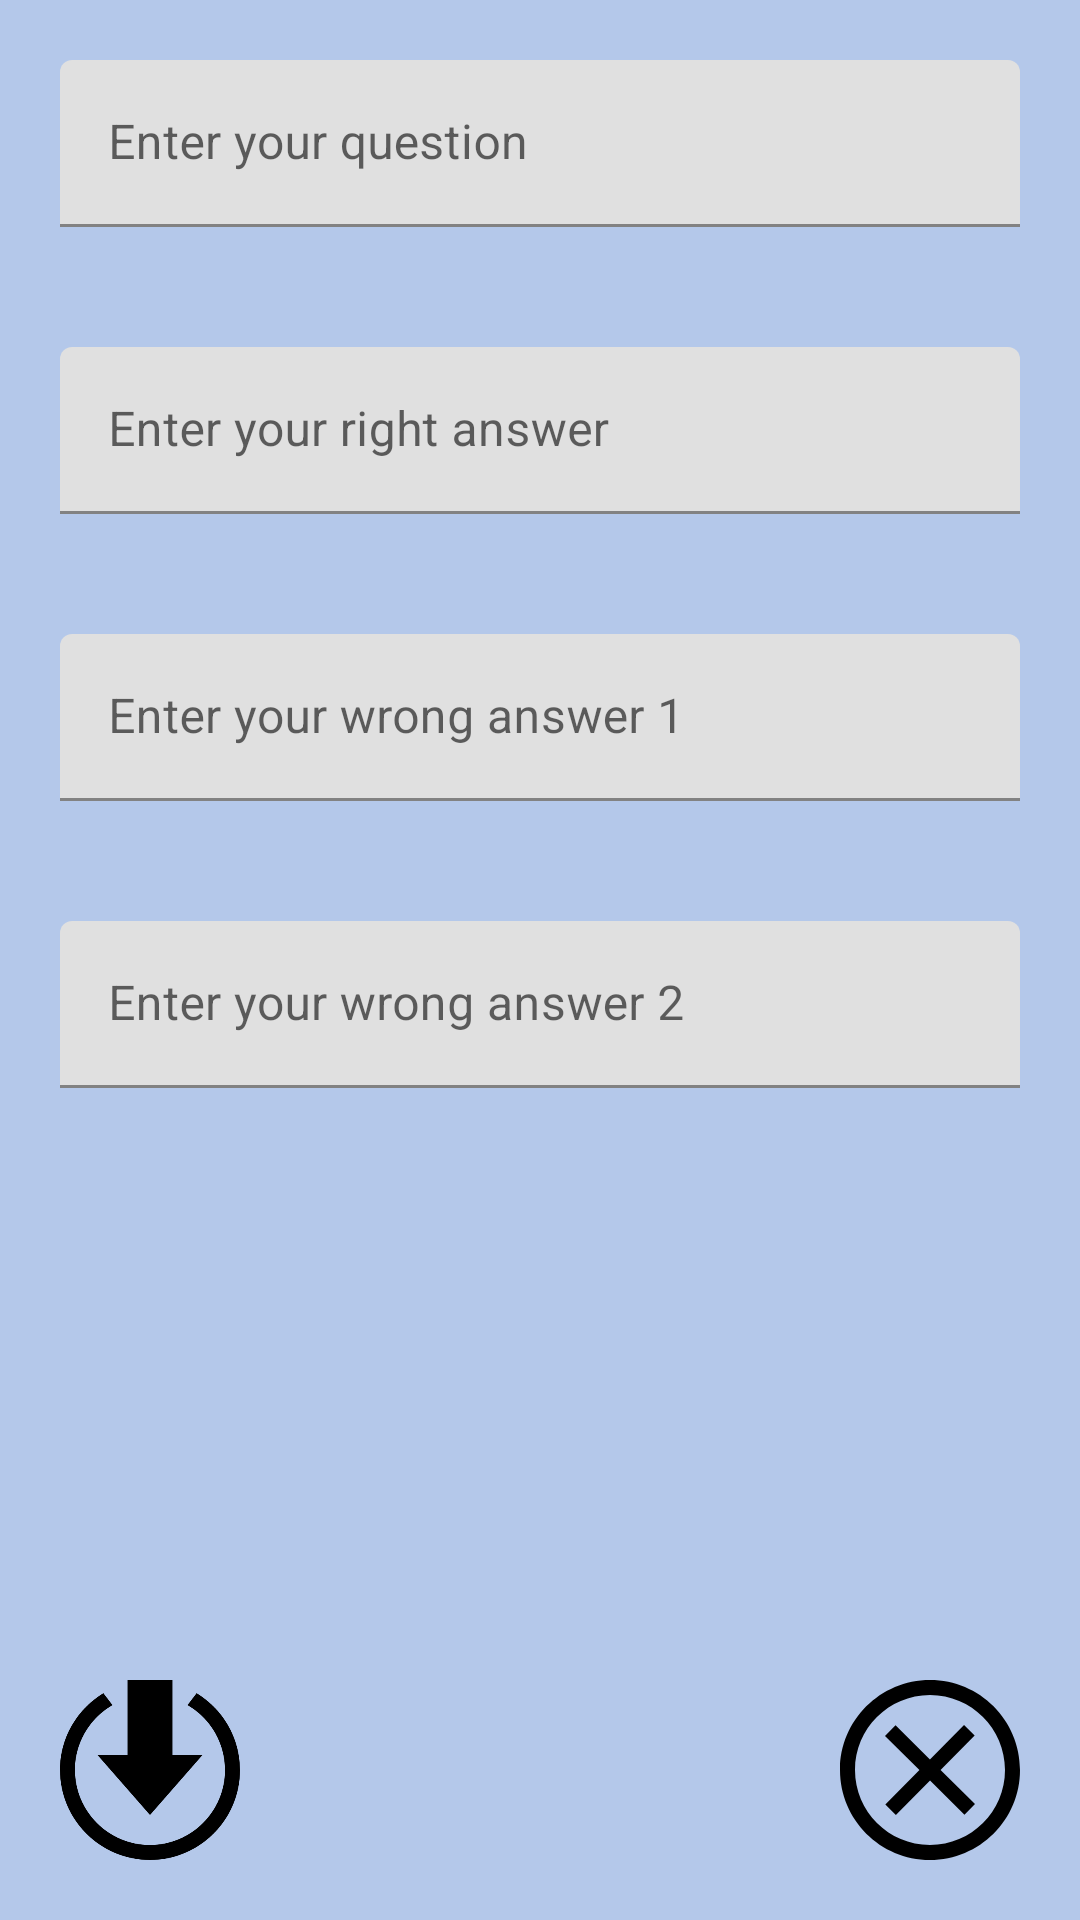

Locate icon controls on the screen. Image size 1080w x 1920h, boxes as (x1, y1, x2, y2).
close: (840, 1680, 1020, 1860)
save: (60, 1680, 240, 1860)
